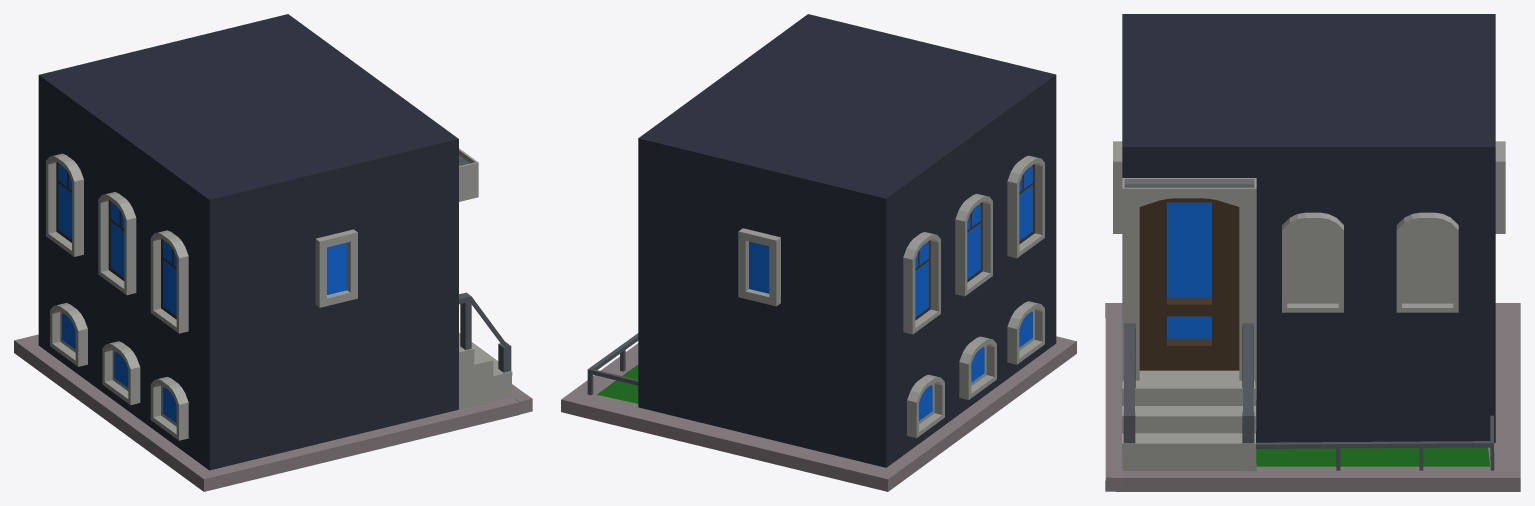
File: building_1x1_2_g.glb
3 renders of one model, left to right at view 1: azimuth 30°, elevation 25°; view 2: azimuth 150°, elevation 25°; view 3: azimuth 270°, elevation 25°, orthographic. The views are drawn at different scales.
Parts seen in each view (by area): view 1: FirstFloor; view 2: FirstFloor; view 3: FirstFloor.
Boxes of the visible parts, left/top/right/bottom form: FirstFloor: left=14, top=14, right=532, bottom=491; FirstFloor: left=561, top=14, right=1076, bottom=491; FirstFloor: left=1105, top=14, right=1520, bottom=491.
Bounding box in the file's own units: 2 × 1.65 × 2.
